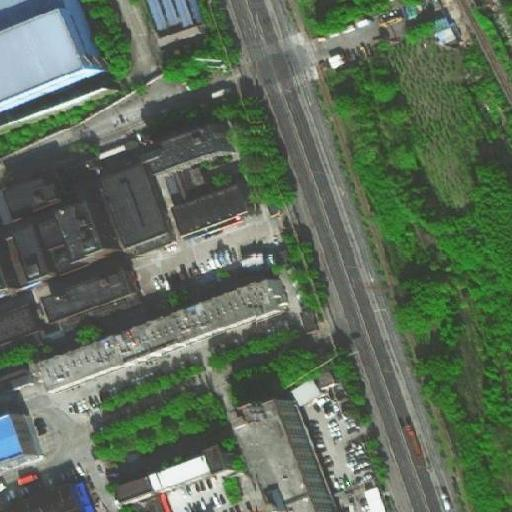building: (34, 272, 289, 402), (226, 395, 339, 511), (0, 194, 118, 301), (95, 163, 172, 259), (43, 266, 144, 326), (139, 121, 235, 179), (171, 182, 256, 241), (148, 445, 228, 496), (0, 170, 64, 225), (0, 412, 46, 478), (0, 481, 97, 512), (153, 160, 214, 209), (0, 299, 44, 347), (113, 474, 158, 507), (426, 8, 458, 43), (289, 371, 324, 403), (363, 480, 390, 512)
